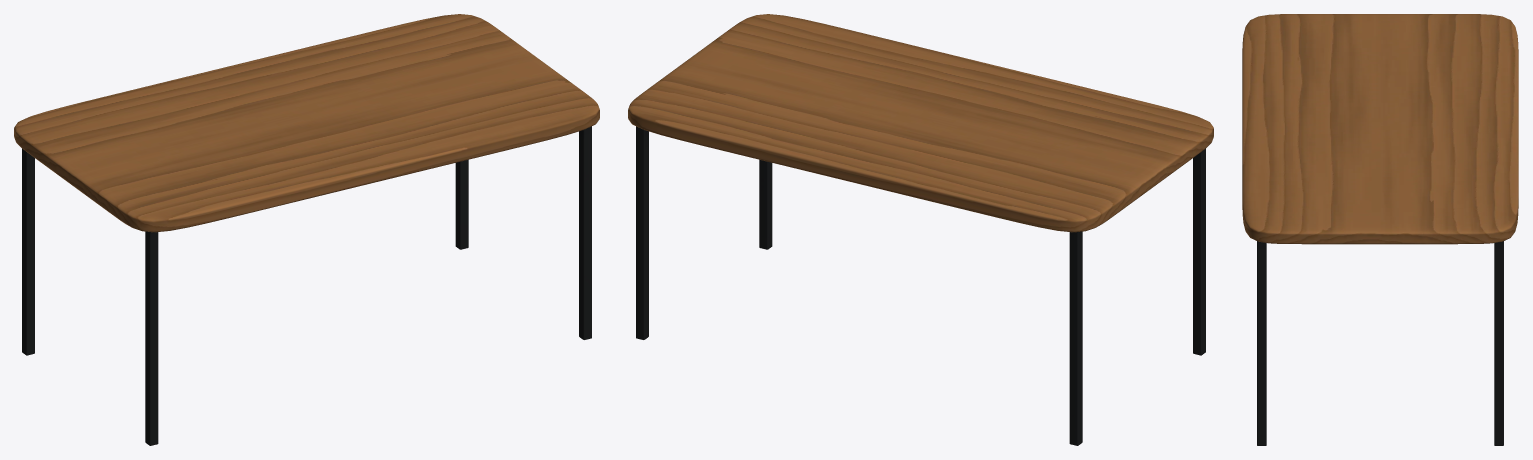
File: industrial-dining.glb
3 renders of one model, left to right at view 1: azimuth 30°, elevation 25°; view 2: azimuth 150°, elevation 25°; view 3: azimuth 270°, elevation 25°, orthographic. The views are drawn at different scales.
Parts seen in each view (by area): view 1: wood_h, metal_legs; view 2: wood_h, metal_legs; view 3: wood_h, metal_legs.
Part boxes in pixels (x1,y1,x2,y2): wood_h: [14, 14, 599, 232]; metal_legs: [22, 126, 591, 445]; wood_h: [628, 14, 1213, 232]; metal_legs: [636, 126, 1205, 445]; wood_h: [1242, 14, 1518, 244]; metal_legs: [1257, 241, 1503, 445].
Bounding box in the file's own units: 1.6 × 0.75 × 0.85.
2 materials, 2 textured.
